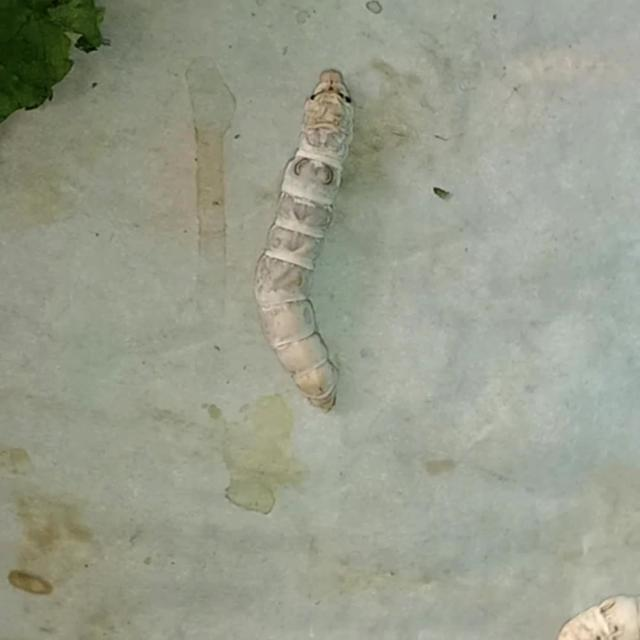Grasserie: (235, 61, 384, 414)
